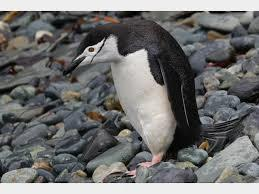chinstrap: (58, 17, 240, 182)
